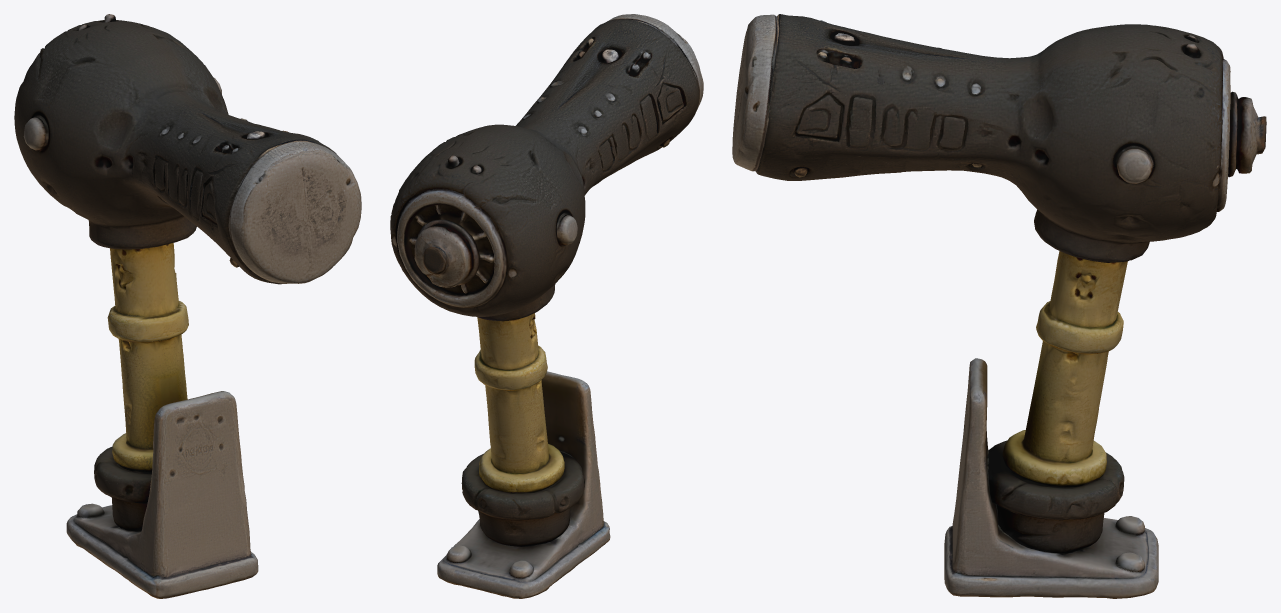
The picture shows the model from 3 angles, left to right: view 1: azimuth 30°, elevation 25°; view 2: azimuth 150°, elevation 25°; view 3: azimuth 270°, elevation 25°; orthographic projection. The views are drawn at different scales.
Parts seen in each view (by area): view 1: tripo_node_6e1846eb-f3a6-4bf6-99cf-72fcdeb6d71d; view 2: tripo_node_6e1846eb-f3a6-4bf6-99cf-72fcdeb6d71d; view 3: tripo_node_6e1846eb-f3a6-4bf6-99cf-72fcdeb6d71d.
Boxes of the visible parts, x1,y1,x2,y2 form: tripo_node_6e1846eb-f3a6-4bf6-99cf-72fcdeb6d71d: (14,14,361,598); tripo_node_6e1846eb-f3a6-4bf6-99cf-72fcdeb6d71d: (390,14,703,598); tripo_node_6e1846eb-f3a6-4bf6-99cf-72fcdeb6d71d: (732,14,1266,598).
Size of the model in its own units: 0.3961 by 1 by 0.8816.
1 material, 1 textured.
